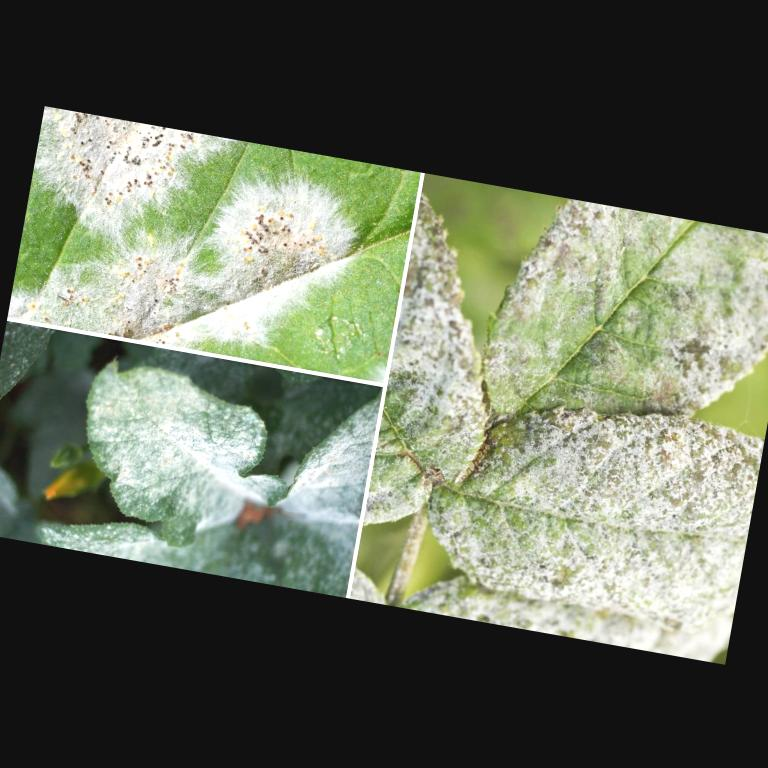powdery-mildew: (34, 120, 350, 350), (492, 434, 726, 610), (112, 392, 225, 494)
